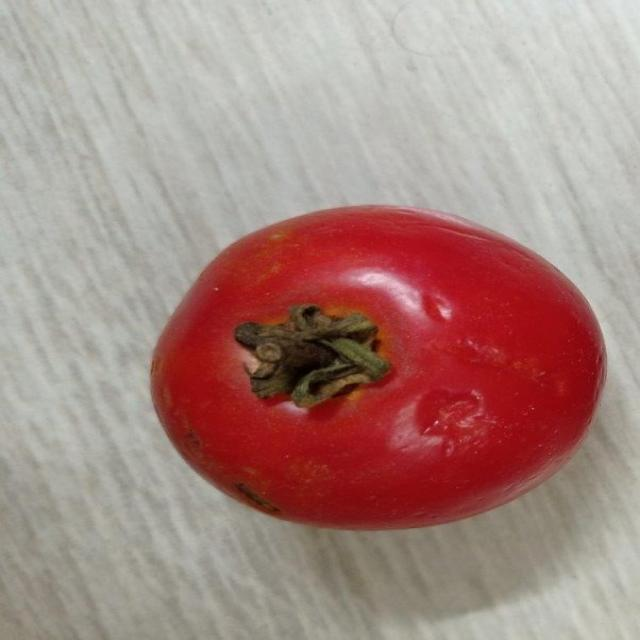overripe: (146, 201, 609, 534)
